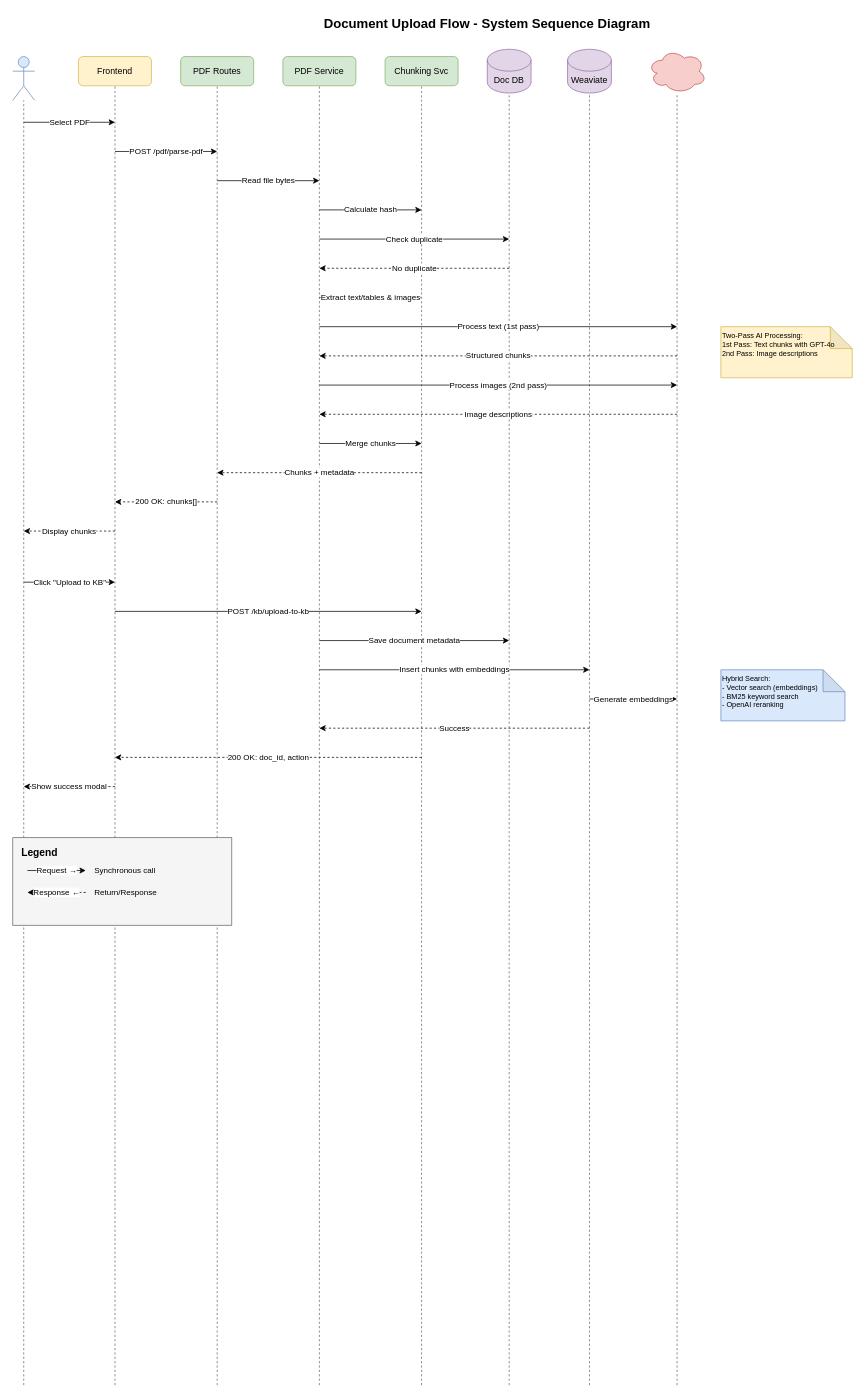
Some shapes in this 865 by 1399 pixel diagram are drawn without their labels. The centre of each missing label's shape, as x and y in pixels:
"OpenAI" goes at (676,71).
"User" goes at (23,78).
